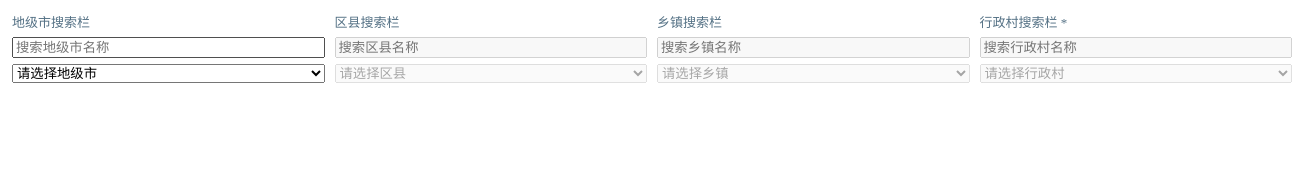
it: selects closest options through all levels and clears descendants when the city changes
Type "齐齐哈尔" into the search field named "搜索地级市" at (168, 48), box x1=12 y1=37 x2=324 y2=58
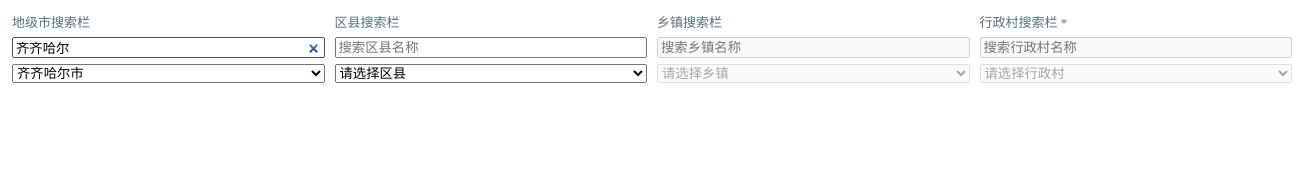
expect the dropdown named "地级市" shows "齐齐哈尔市": met, box x1=12 y1=64 x2=324 y2=83
Type "梅里斯" into the 2nd search field at (491, 48), box x1=334 y1=37 x2=647 y2=58
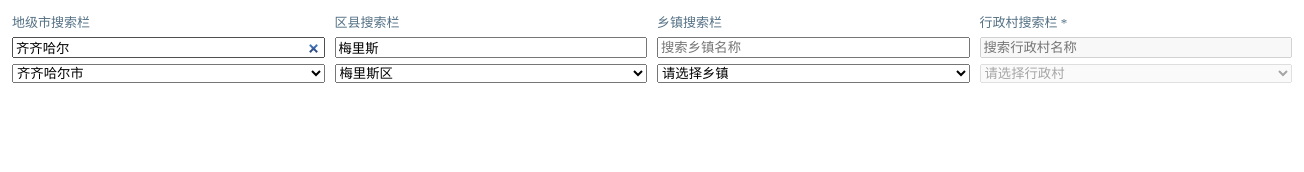
expect the dropdown named "区县" shows "梅里斯区": met, box x1=334 y1=64 x2=647 y2=83
Type "雅尔寨" into the 3rd search field at (813, 48), box x1=657 y1=37 x2=970 y2=58
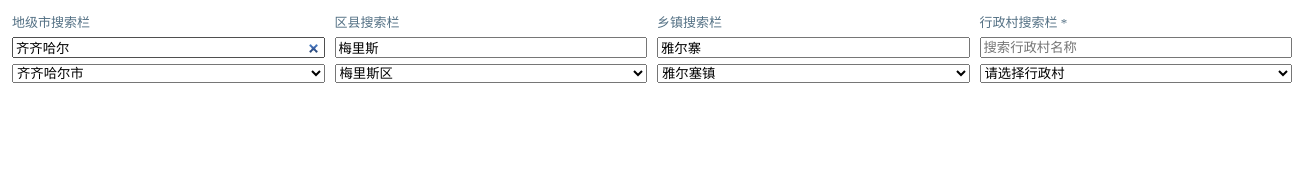
expect the dropdown named "乡镇" shows "雅尔塞镇": met, box x1=657 y1=64 x2=970 y2=83
Type "音钦" into the 4th search field at (1136, 48), box x1=980 y1=37 x2=1292 y2=58
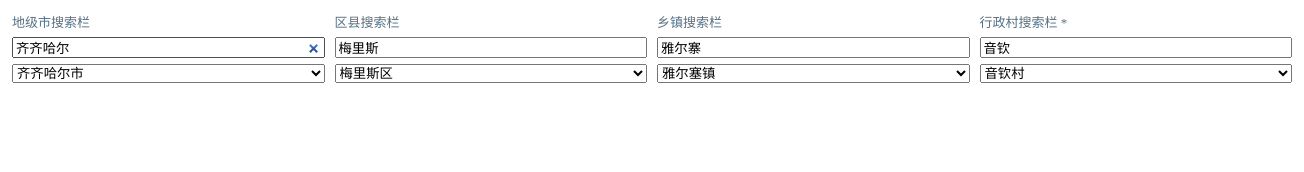
expect the dropdown named "行政村" shows "音钦村": met, box x1=980 y1=64 x2=1292 y2=83
Replace the text in the search field named "搜索地级市" with "黑河" at (168, 48), box x1=12 y1=37 x2=324 y2=58
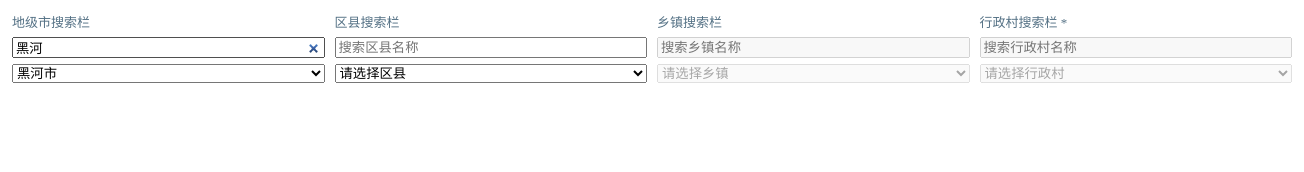
expect the dropdown named "地级市" shows "黑河市": met, box x1=12 y1=64 x2=324 y2=83
expect the dropdown named "乡镇" is disabled: met, box x1=657 y1=64 x2=970 y2=83
